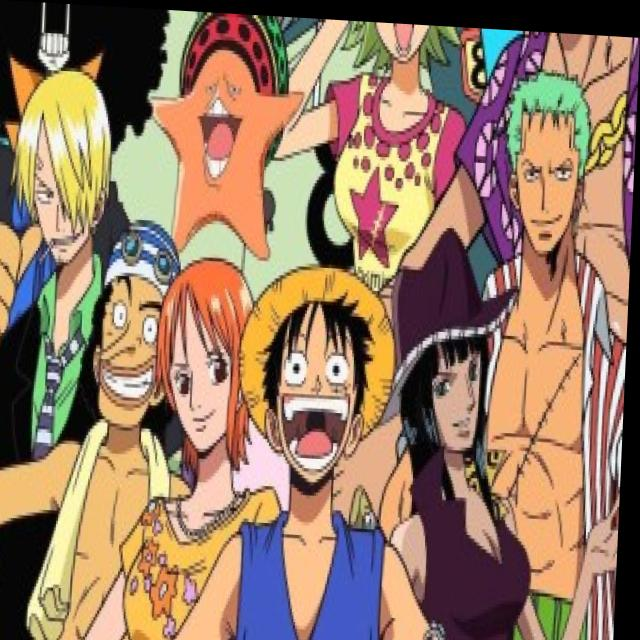Luffy: (239, 260, 405, 490)
Nami: (158, 251, 260, 468)
NicoRobin: (394, 224, 523, 469)
Sangdi: (6, 72, 127, 282)
Usopp: (87, 208, 186, 431)
Zoro: (501, 58, 593, 249)
